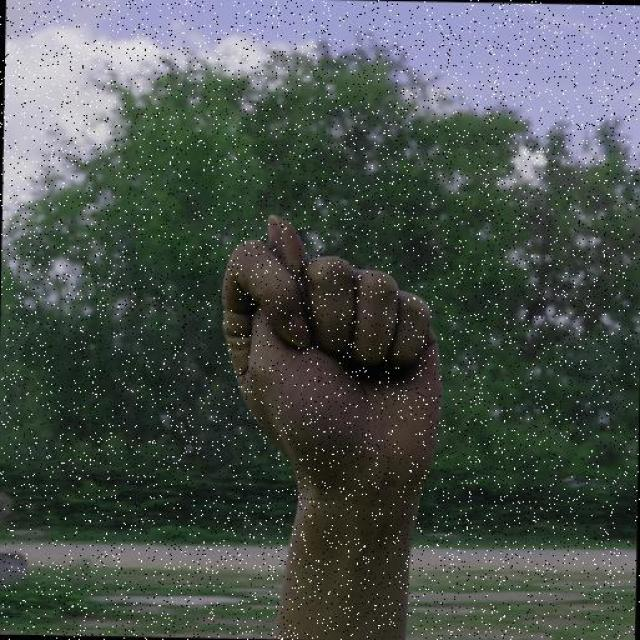T: (208, 208, 453, 510)
